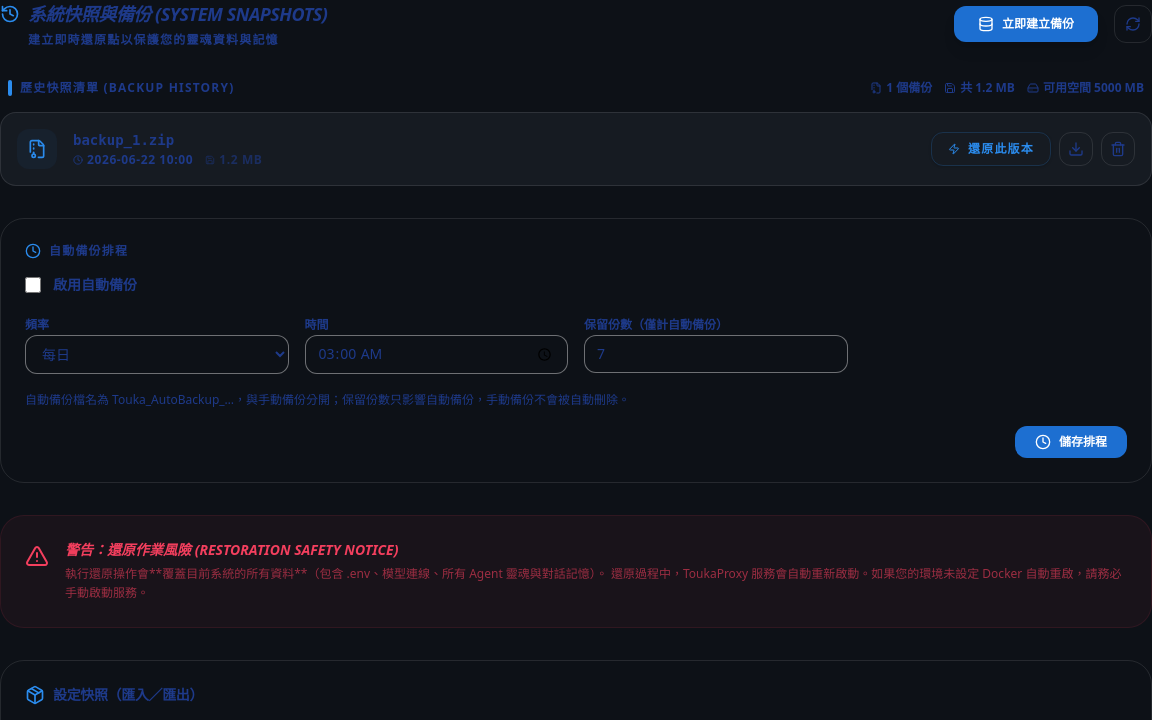
Scenario: EnvSettings 軌1 Phase 2 — 加密下載（ADR-0108） › P2: 下載確認鈕在密碼短語 <8 字前停用、≥8 後啟用
Click the button named "下載備份 backup_1.zip" at (1076, 149), box [1059, 132, 1093, 166]
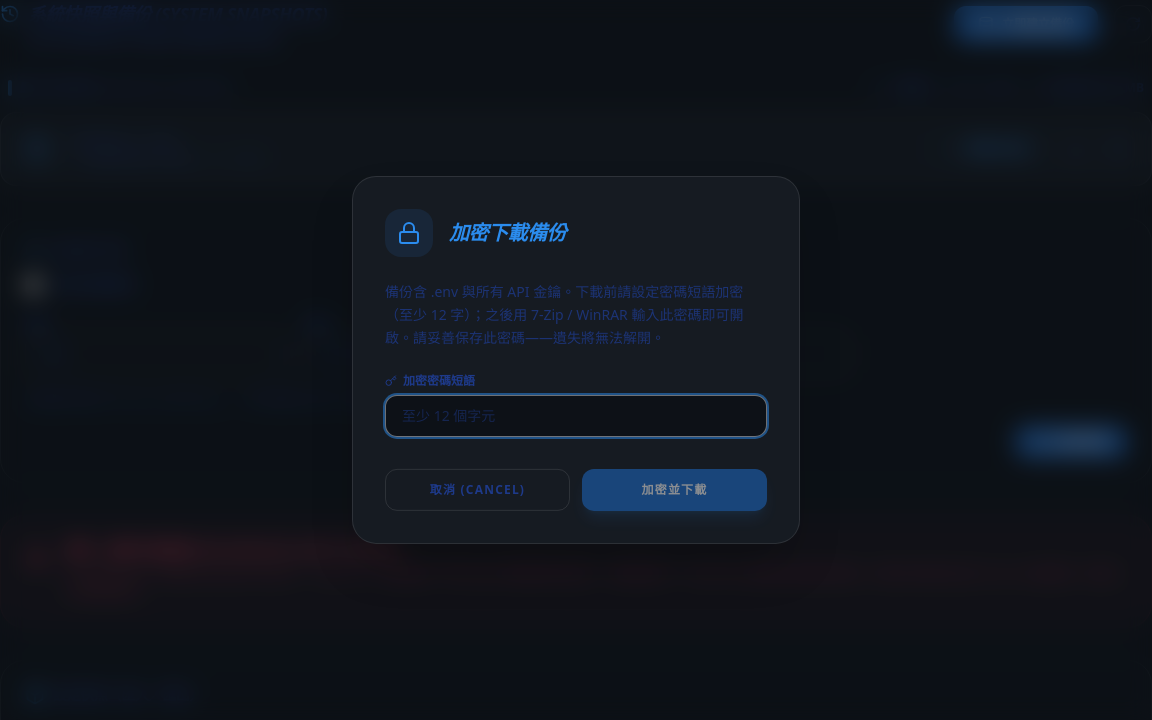
Expected: the button "加密並下載" is disabled, [582, 469, 767, 511]
Type "short" into the password field with placeholder "至少 12 個字元" at (576, 416), box [385, 395, 767, 437]
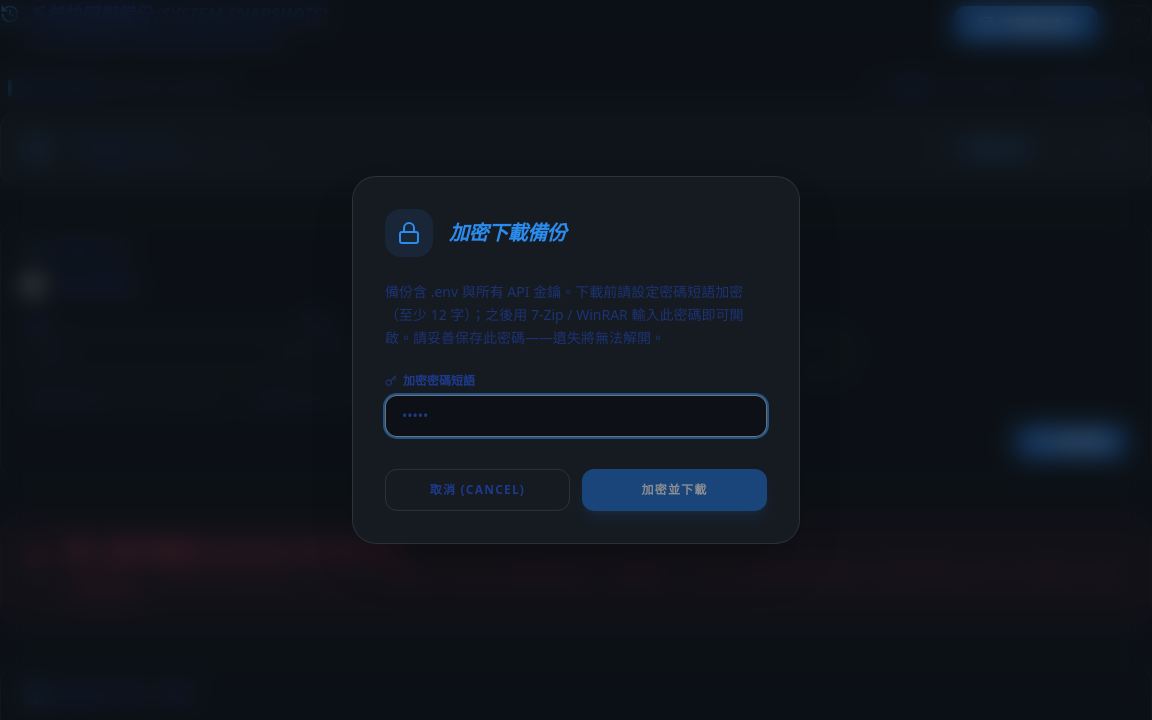
Expected: the button "加密並下載" is disabled, [582, 469, 767, 511]
Type "long-enough-pass" into the password field with placeholder "至少 12 個字元" at (576, 416), box [385, 395, 767, 437]
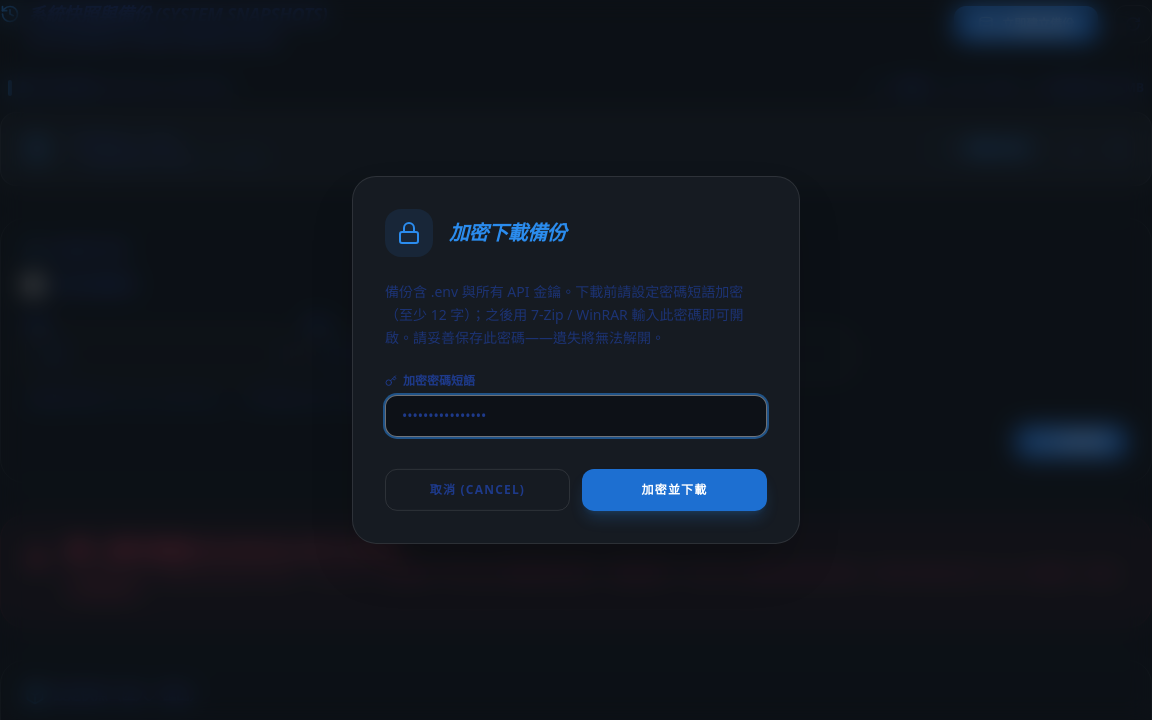
Expected: the button "加密並下載" is enabled, [582, 469, 767, 511]
